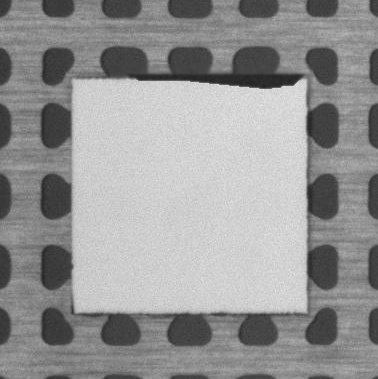DIE_BROKEN: (132, 71, 309, 90)
